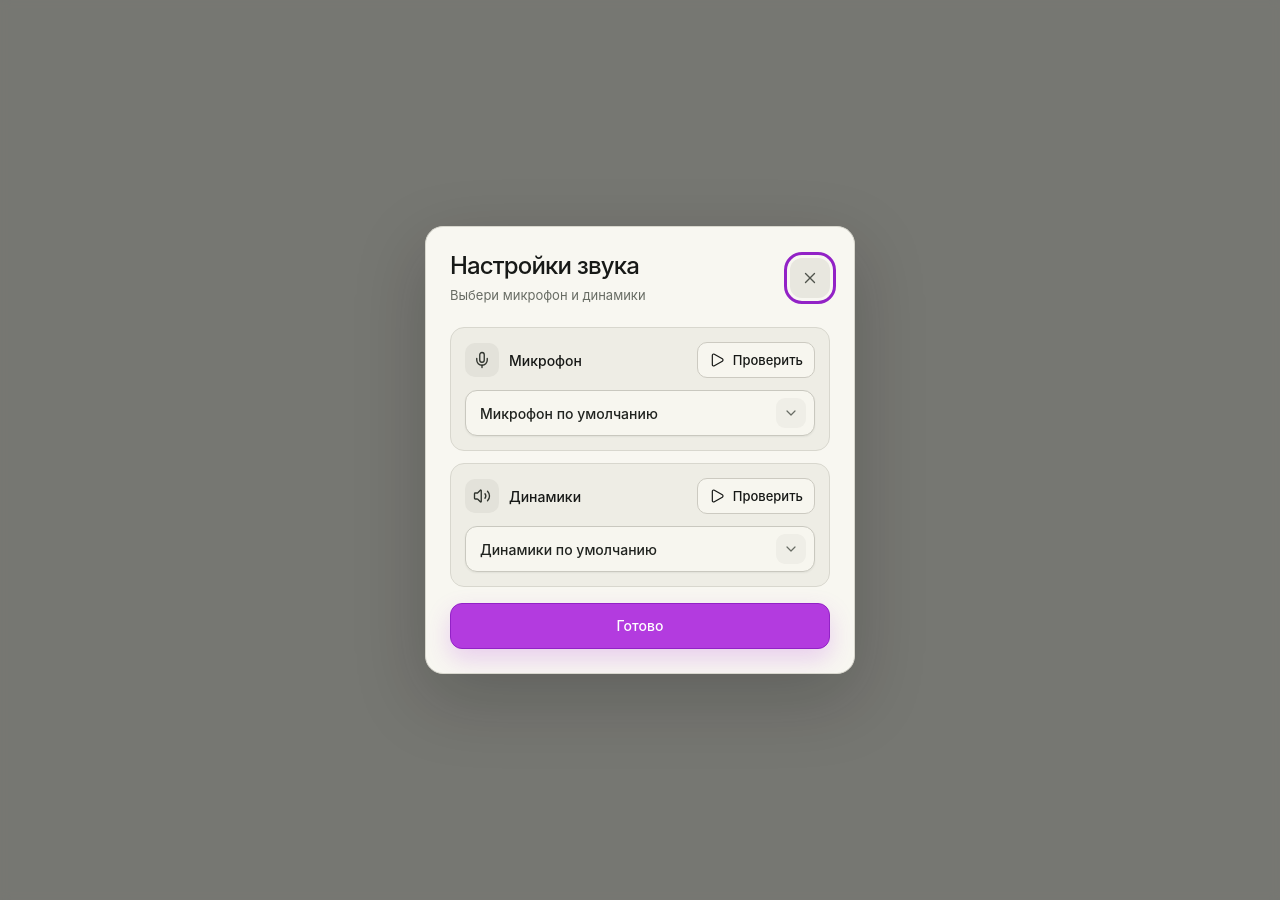
Test: audio test controls › stops the speaker waveform and playback on stop
Click the 2nd button "Проверить" at (756, 496), box [697, 478, 815, 514]
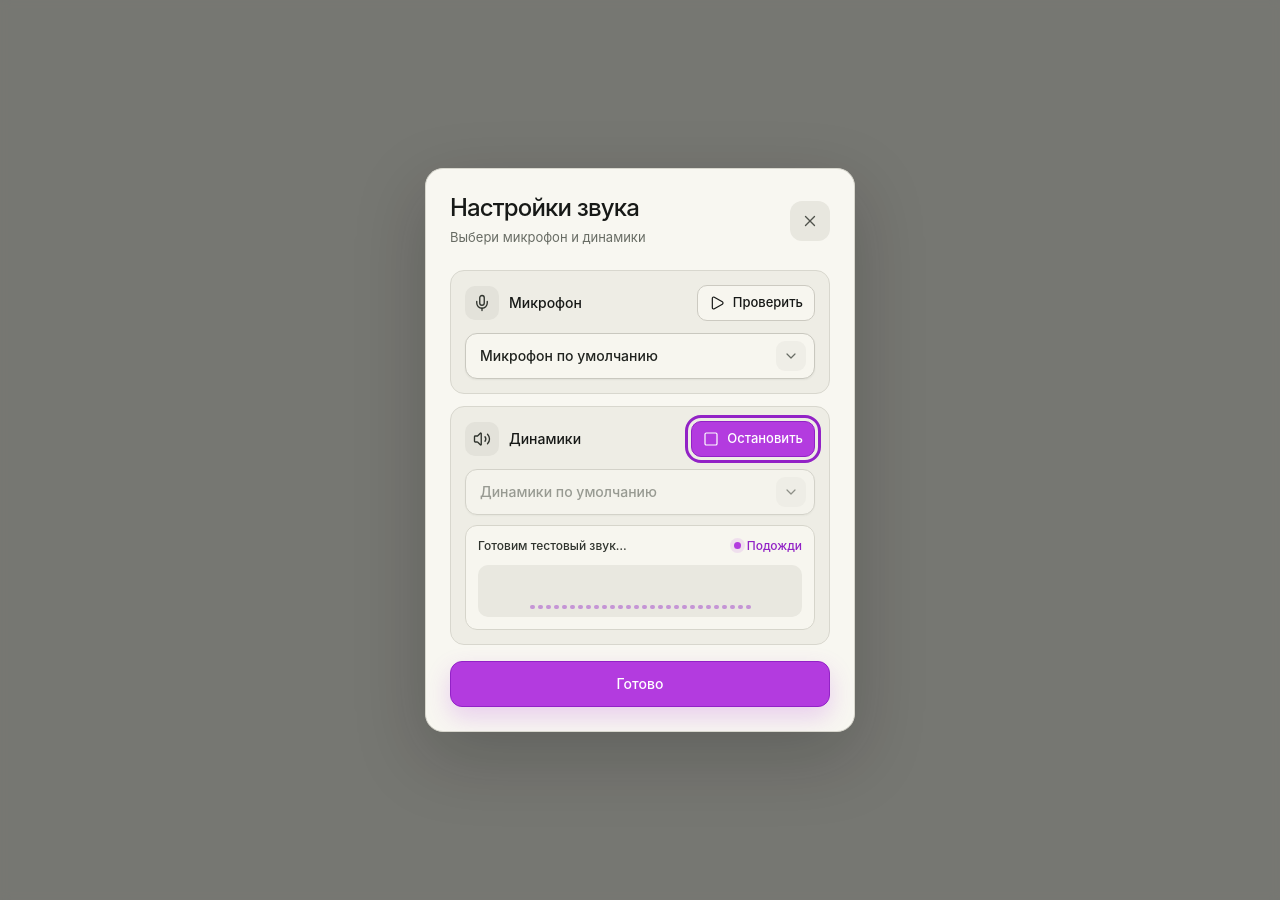
Result: the picture named "Тестовый звук" is shown at [478, 565, 802, 617]
Click the button "Остановить" at (753, 439), box [691, 421, 815, 457]
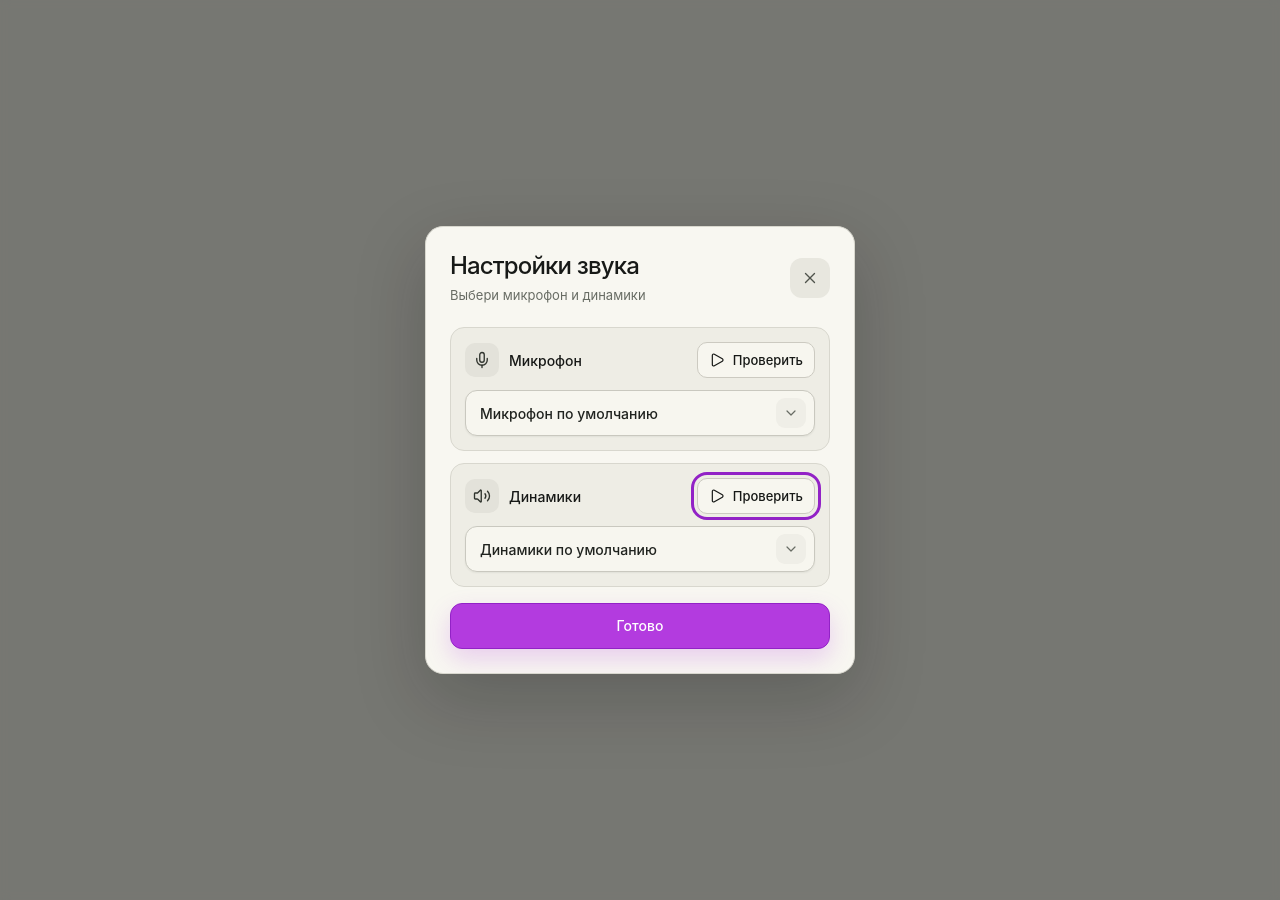
Result: the text "тестовый звук" is gone
Result: the message "Готовим тестовый звук… Подожди" is gone
